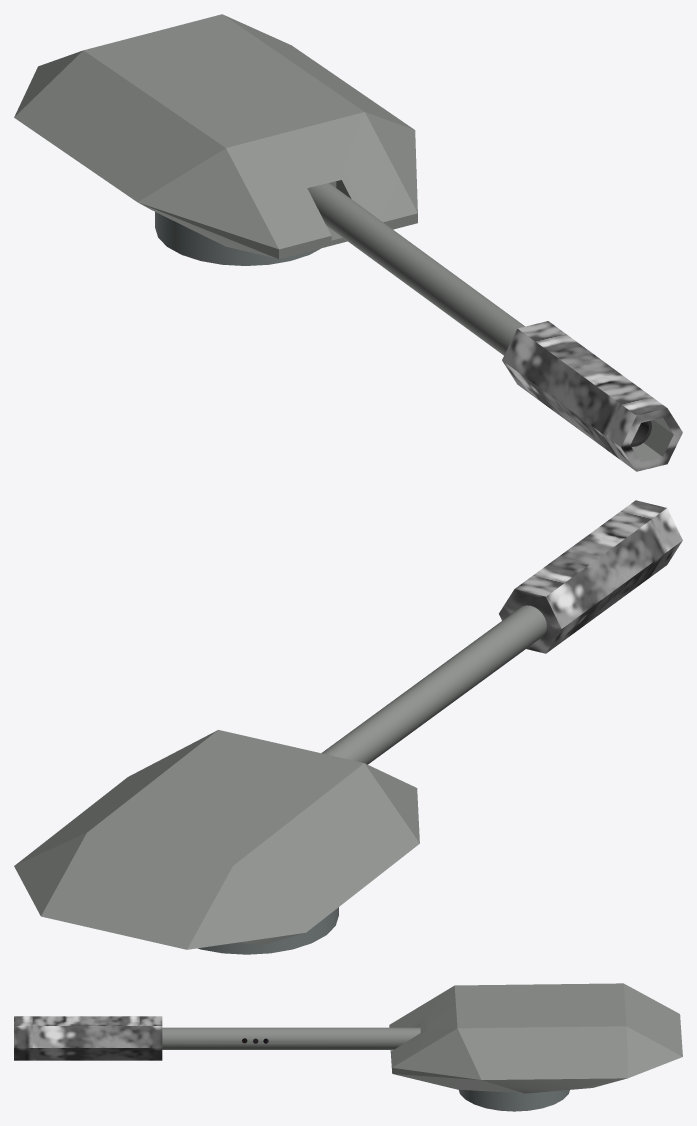
File: 加农炮Cannon[武器]ss贴图版.fbx
3 views of the same model, one above another, from view 1: azimuth 30°, elevation 25°; view 2: azimuth 150°, elevation 25°; view 3: azimuth 270°, elevation 25° (orthographic). The views are drawn at different scales.
Parts seen in each view (by area): view 1: Group2, Group3; view 2: Group2, Group3; view 3: Group2, Group3.
Boxes of the visible parts, x1,y1,x2,y2 form: Group2: (14,14,682,471); Group3: (155,212,320,265); Group2: (14,500,682,949); Group3: (197,907,338,954); Group2: (14,983,682,1093); Group3: (459,1089,569,1111).
Bounding box in the file's own units: 1836 × 800 × 5934.
